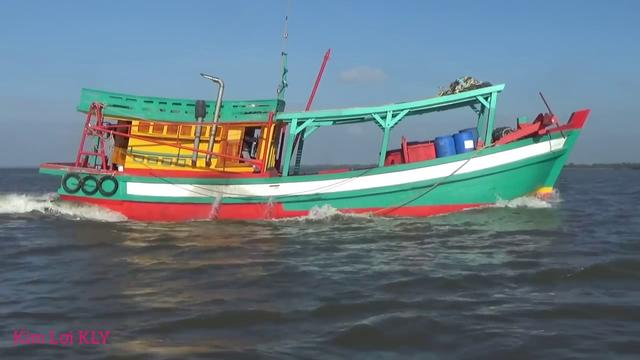Ship: (40, 60, 591, 224)
